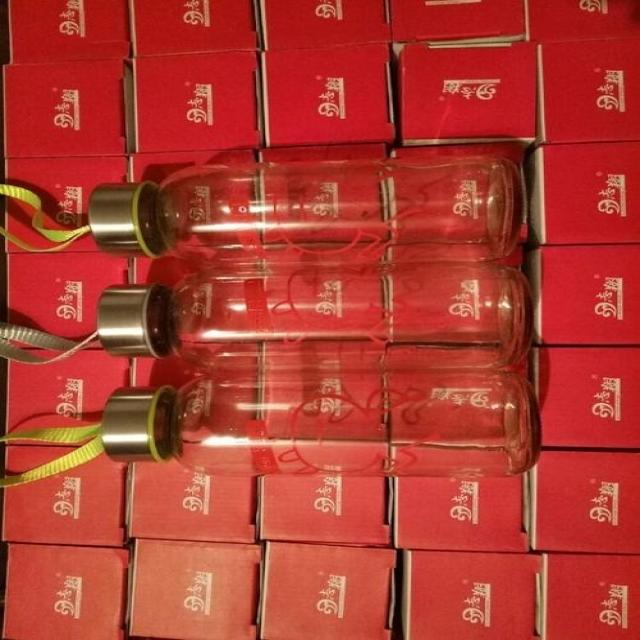box: (396, 40, 536, 146), (261, 41, 397, 146), (260, 540, 397, 640), (133, 50, 265, 153), (129, 538, 262, 640), (1, 59, 134, 157), (399, 550, 544, 639), (1, 542, 129, 640), (1, 451, 125, 549), (524, 244, 640, 345), (527, 142, 639, 246), (4, 346, 132, 437), (127, 457, 260, 544), (532, 345, 640, 452), (530, 449, 640, 554), (393, 472, 532, 554), (8, 249, 132, 339), (536, 38, 640, 143), (259, 475, 393, 547), (4, 154, 129, 231), (541, 554, 640, 640), (8, 0, 129, 62), (132, 0, 261, 56), (257, 0, 390, 46), (388, 0, 526, 41), (525, 0, 640, 39), (128, 148, 253, 183), (4, 439, 92, 474), (6, 195, 61, 249), (260, 142, 388, 163), (393, 142, 524, 158), (133, 255, 197, 286), (132, 358, 195, 388), (61, 233, 100, 250), (4, 239, 29, 252)
